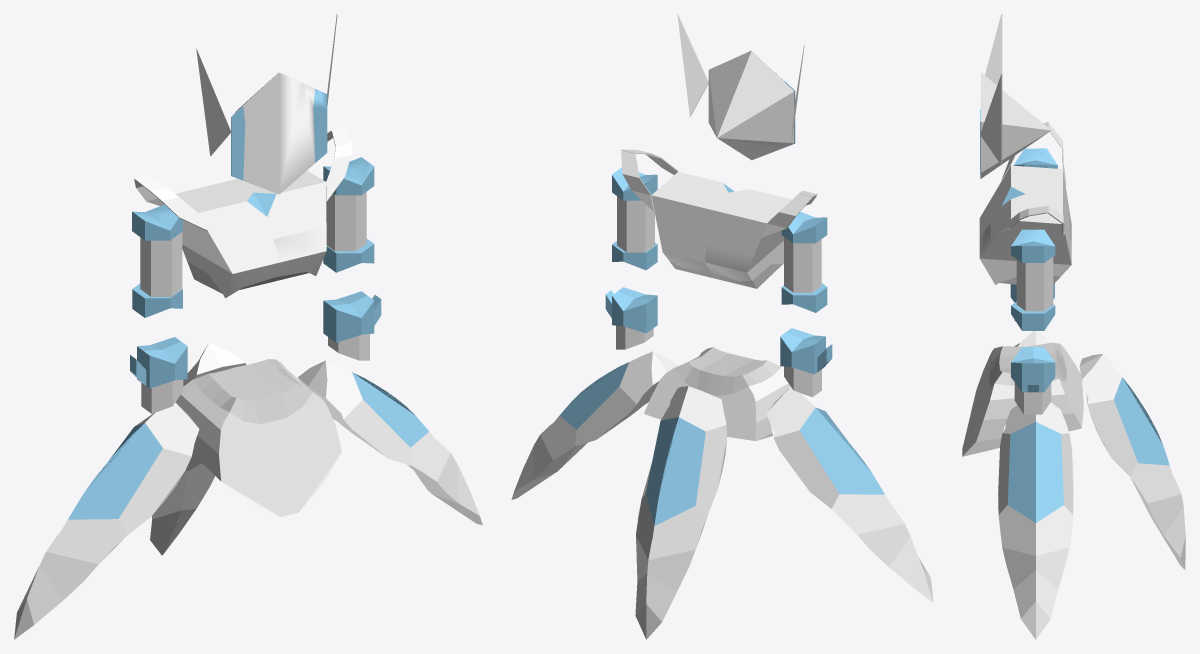
Rendered from t-byte04.fbx.
3 renders of one model, left to right at view 1: azimuth 30°, elevation 25°; view 2: azimuth 150°, elevation 25°; view 3: azimuth 270°, elevation 25°, orthographic. The views are drawn at different scales.
Visible parts, largest first — view 1: Tren inferior.005, Torso.003, Ala.006, Cabeza.003, Ala.005, Hombro.007, Hombro.006, Ala.001, muñeca.005, muñeca.004; view 2: Ala.001, Torso.003, Ala.006, Cabeza.003, Ala.005, Tren inferior.005, Hombro.007, Hombro.006, muñeca.005, muñeca.004; view 3: Ala.005, Ala.001, Torso.003, Tren inferior.005, Cabeza.003, Hombro.006, muñeca.004, Hombro.007.
Boxes of the visible parts, <box> form: Tren inferior.005: <box>175,359,341,516</box>; Torso.003: <box>134,126,351,298</box>; Ala.006: <box>14,402,199,639</box>; Cabeza.003: <box>196,14,337,194</box>; Ala.005: <box>298,360,482,525</box>; Hombro.007: <box>132,204,182,317</box>; Hombro.006: <box>323,157,374,272</box>; Ala.001: <box>150,343,245,555</box>; muñeca.005: <box>130,337,187,413</box>; muñeca.004: <box>323,291,381,360</box>; Ala.001: <box>635,386,726,639</box>; Torso.003: <box>621,149,817,288</box>; Ala.006: <box>766,387,933,602</box>; Cabeza.003: <box>677,14,804,160</box>; Ala.005: <box>511,351,677,499</box>; Tren inferior.005: <box>644,347,801,440</box>; Hombro.007: <box>781,211,827,312</box>; Hombro.006: <box>612,167,657,270</box>; muñeca.005: <box>780,328,832,397</box>; muñeca.004: <box>605,287,657,349</box>; Ala.005: <box>998,402,1073,639</box>; Ala.001: <box>1079,354,1185,569</box>; Torso.003: <box>979,122,1071,284</box>; Tren inferior.005: <box>962,342,1083,456</box>; Cabeza.003: <box>980,14,1050,178</box>; Hombro.006: <box>1011,229,1055,330</box>; muñeca.004: <box>1011,347,1055,414</box>; Hombro.007: <box>1013,148,1057,168</box>.
Size of the model in its own units: 129 by 159 by 61.03.
